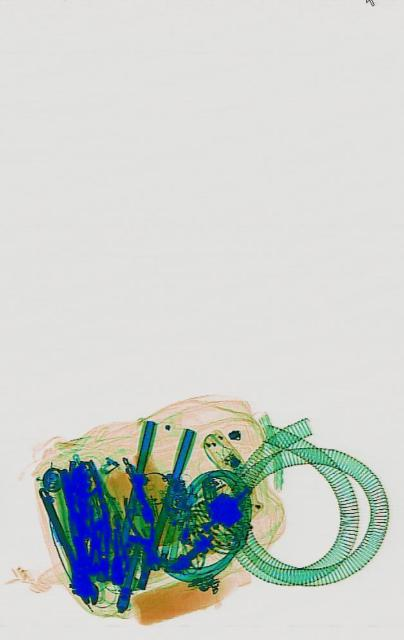Wrench: (29, 481, 100, 612)
